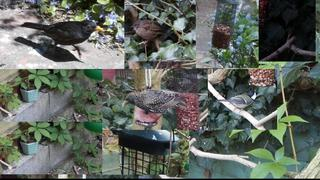blackbird: (20, 20, 104, 61)
dunnock: (130, 20, 176, 46)
great tit: (215, 89, 257, 114)
starling: (122, 89, 188, 114)
